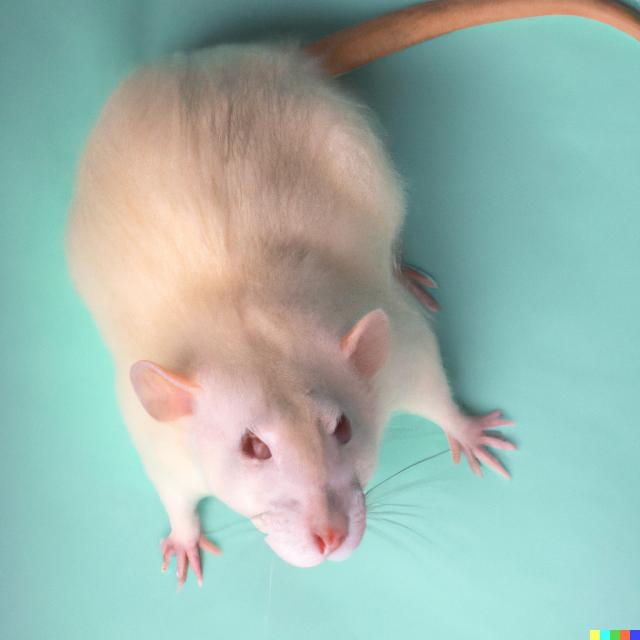rodents: (74, 32, 504, 574)
